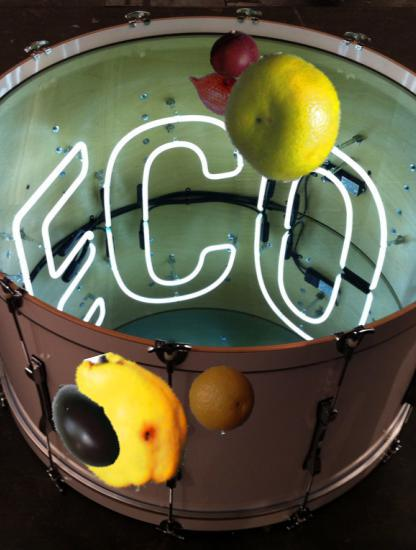Eggplant: (35, 377, 134, 476)
Nectarine: (209, 29, 260, 80)
Orange: (188, 366, 257, 435)
Pomelo: (219, 53, 348, 182)
Quince: (55, 350, 201, 496)
Salak: (184, 55, 266, 137)
